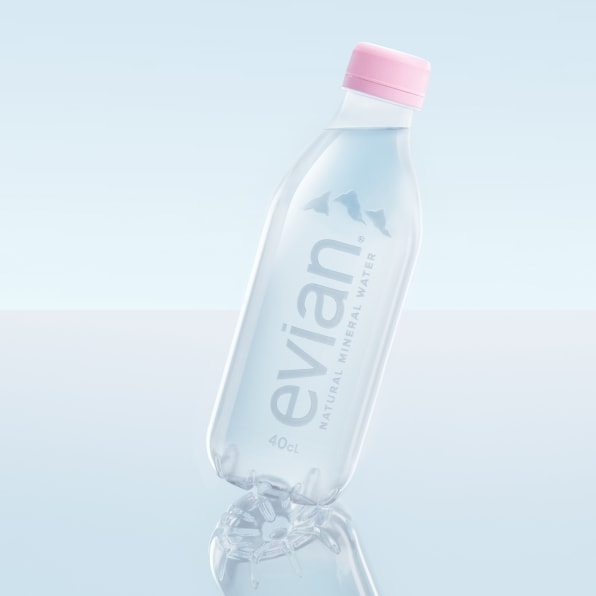plastic_bottle: (173, 13, 548, 509)
